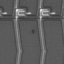dust: (31, 28, 35, 33)
